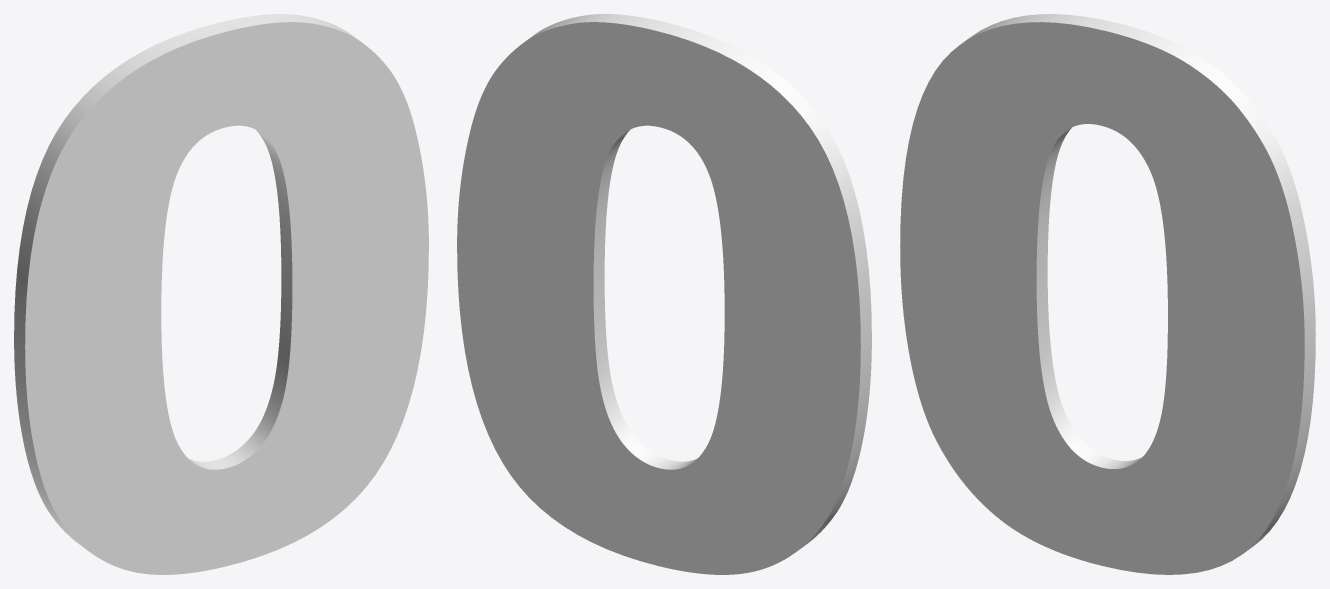
3 renders of one model, left to right at view 1: azimuth 30°, elevation 25°; view 2: azimuth 150°, elevation 25°; view 3: azimuth 330°, elevation 25°, orthographic.
Parts seen in each view (by area): view 1: テキスト; view 2: テキスト; view 3: テキスト.
Boxes of the visible parts, x1,y1,x2,y2 form: テキスト: (14,14,428,574); テキスト: (457,14,871,574); テキスト: (900,14,1315,574).
Size of the model in its own units: 0.4208 by 0.5325 by 0.02.
